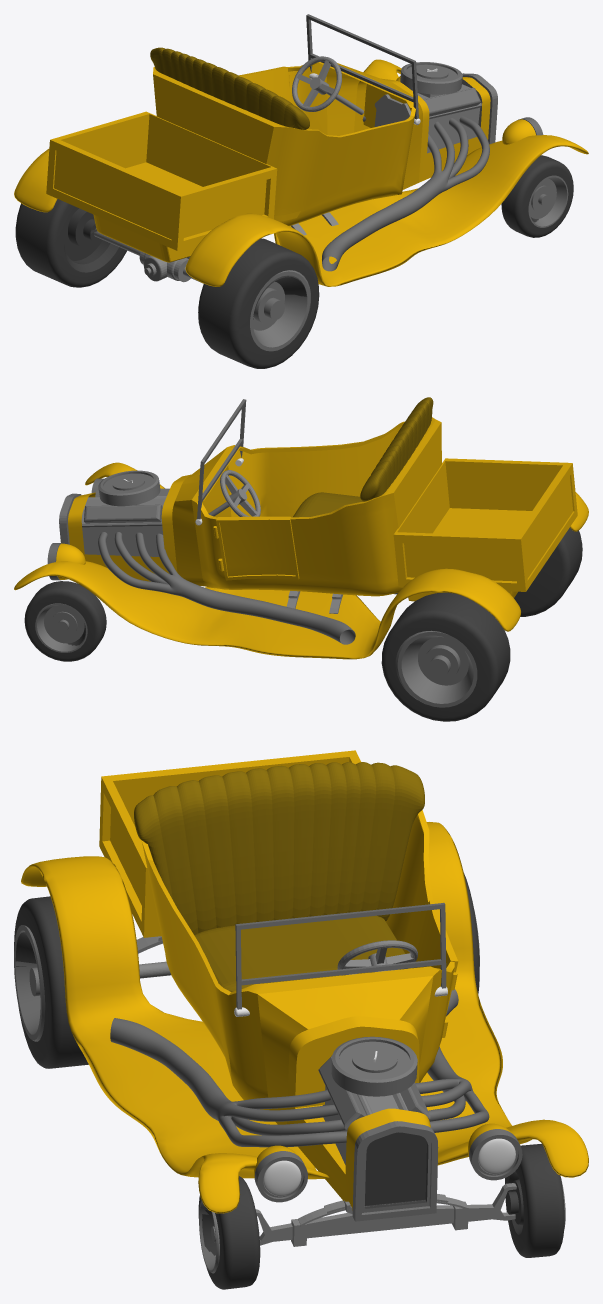
The model's file is auto.fbx.
3 views of the same model, one above another, from view 1: azimuth 30°, elevation 25°; view 2: azimuth 150°, elevation 25°; view 3: azimuth 270°, elevation 25° (orthographic). The views are drawn at different scales.
Parts seen in each view (by area): view 1: carrosserie, boite_arriere, ailes, Cylindre.002, Cube.009, Cube.006, Cylindre.007, Cylindre.005, Cube.001, Cylinder.004, Cylindre.006, Cylindre.008 (+7 smaller); view 2: carrosserie, boite_arriere, ailes, Cylindre.002, Cube.009, Cylindre.007, carrosserie.003, Cylindre.005, Cube.006, Cube.001, Cylindre.008, Cylindre.006 (+6 smaller); view 3: ailes, Cube.006, carrosserie, Cube.009, Cylindre.005, Cube.002, boite_arriere, Cylindre.002, Sphère, support radiateur.001, carrosserie.002, Cylindre.006 (+9 smaller).
Part boxes in pixels (x1,y1,x2,y2): carrosserie: [153, 62, 490, 226]; boite_arriere: [46, 111, 277, 250]; ailes: [14, 59, 588, 286]; Cylindre.002: [15, 199, 319, 368]; Cube.009: [322, 116, 489, 271]; Cube.006: [150, 47, 309, 129]; Cylindre.007: [250, 270, 310, 351]; Cylindre.005: [501, 155, 573, 237]; Cube.001: [374, 84, 481, 153]; Cylinder.004: [292, 56, 363, 114]; Cylindre.006: [400, 62, 462, 94]; Cylindre.008: [528, 175, 568, 227]; carrosserie: [68, 417, 441, 596]; boite_arriere: [393, 458, 577, 591]; ailes: [14, 462, 588, 659]; Cylindre.002: [381, 527, 582, 721]; Cube.009: [98, 532, 355, 644]; Cylindre.007: [395, 630, 477, 707]; carrosserie.003: [216, 516, 299, 580]; Cylindre.005: [24, 581, 106, 661]; Cube.006: [360, 397, 433, 501]; Cube.001: [81, 496, 166, 556]; Cylindre.008: [35, 603, 87, 652]; Cylindre.006: [98, 470, 160, 506]; ailes: [21, 822, 588, 1213]; Cube.006: [134, 762, 424, 934]; carrosserie: [141, 810, 454, 1210]; Cube.009: [110, 989, 489, 1147]; Cylindre.005: [198, 1143, 564, 1289]; Cube.002: [194, 915, 413, 991]; boite_arriere: [99, 750, 360, 937]; Cylindre.002: [14, 873, 479, 1068]; Sphère: [254, 1123, 522, 1202]; support radiateur.001: [255, 1183, 516, 1246]; carrosserie.002: [365, 1132, 428, 1208]; Cylindre.006: [331, 1036, 417, 1096].
Bounding box in the file's own units: 362 × 158 × 260.
